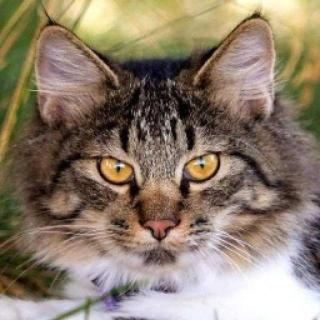cat: (25, 19, 286, 268)
nose: (132, 199, 186, 250)
